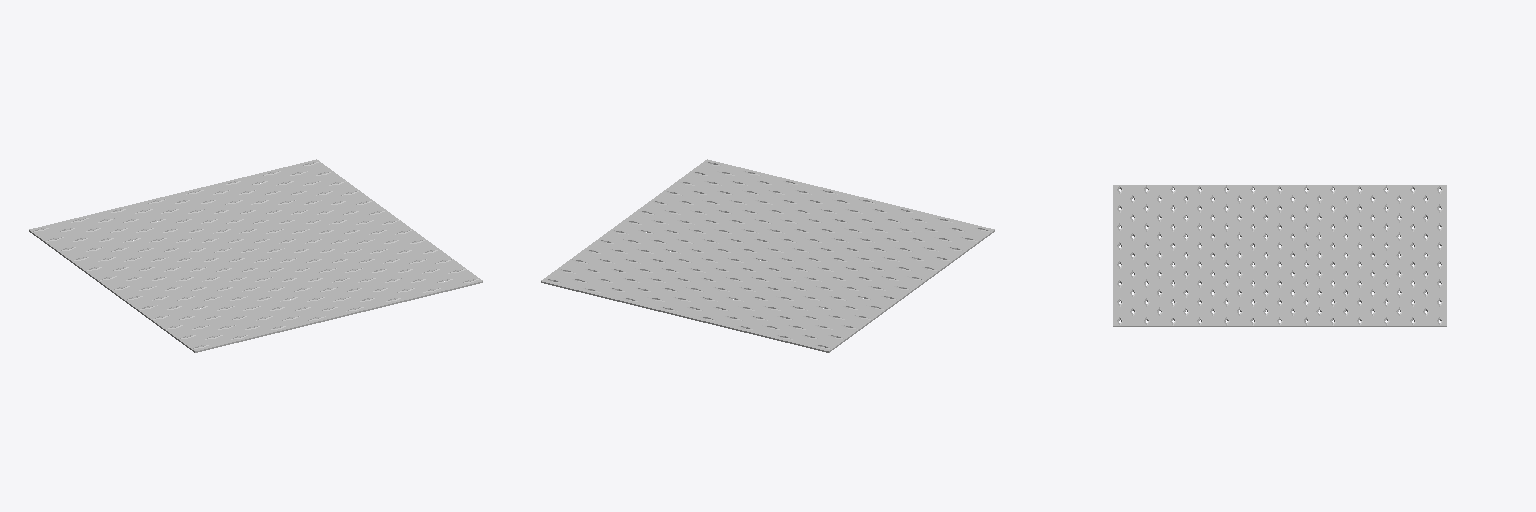
The model's file is floor.obj.
The picture shows the model from 3 angles: view 1: azimuth 30°, elevation 25°; view 2: azimuth 150°, elevation 25°; view 3: azimuth 270°, elevation 25°; orthographic projection.
Parts seen in each view (by area): view 1: Plane.001_Plane.002; view 2: Plane.001_Plane.002; view 3: Plane.001_Plane.002.
Part boxes in pixels (x1,y1,x2,y2): Plane.001_Plane.002: (29, 159, 482, 352); Plane.001_Plane.002: (541, 159, 994, 352); Plane.001_Plane.002: (1113, 185, 1446, 326).
Size of the model in its own units: 2 by 0.0128 by 2.